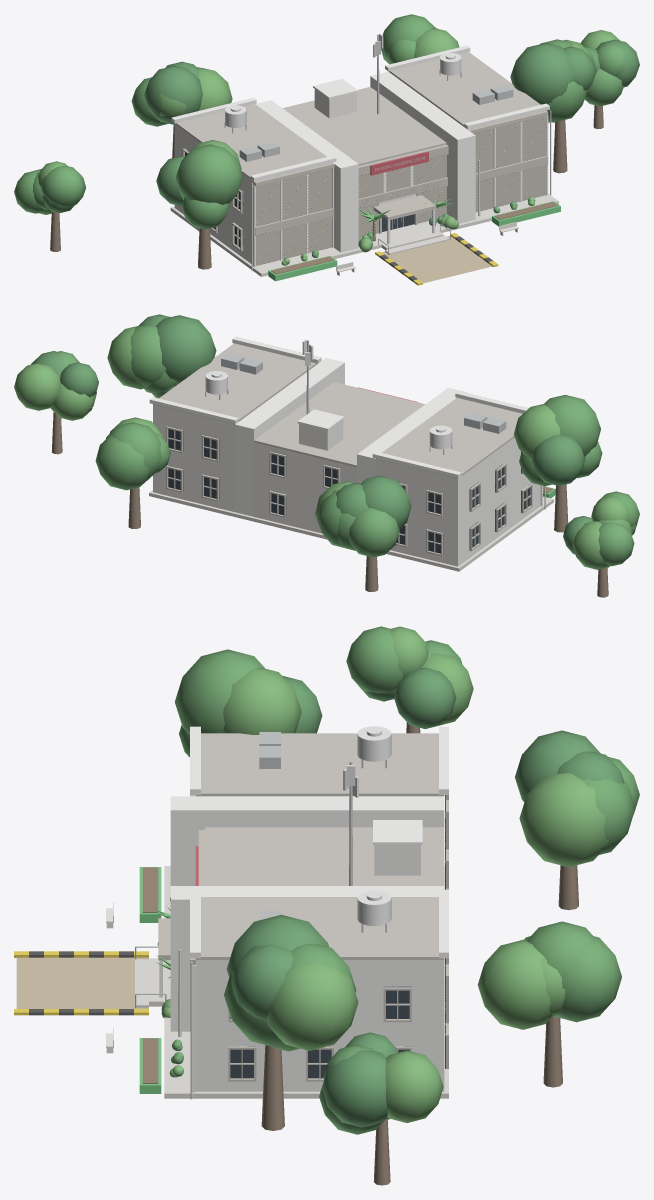
The model's file is Cryogenic_Engineering_Centre.glb.
3 renders of one model, top to bottom at view 1: azimuth 30°, elevation 25°; view 2: azimuth 150°, elevation 25°; view 3: azimuth 270°, elevation 25°, orthographic. The views are drawn at different scales.
Parts seen in each view (by area): view 1: Cryogenic_Engineering_Centre; view 2: Cryogenic_Engineering_Centre; view 3: Cryogenic_Engineering_Centre.
Boxes of the visible parts, left/top/right/bottom form: Cryogenic_Engineering_Centre: left=14, top=14, right=639, bottom=285; Cryogenic_Engineering_Centre: left=14, top=314, right=639, bottom=597; Cryogenic_Engineering_Centre: left=14, top=626, right=639, bottom=1185.
Bounding box in the file's own units: 69.49 × 17.44 × 40.24.
Materials: 127 (19 with a texture image).
